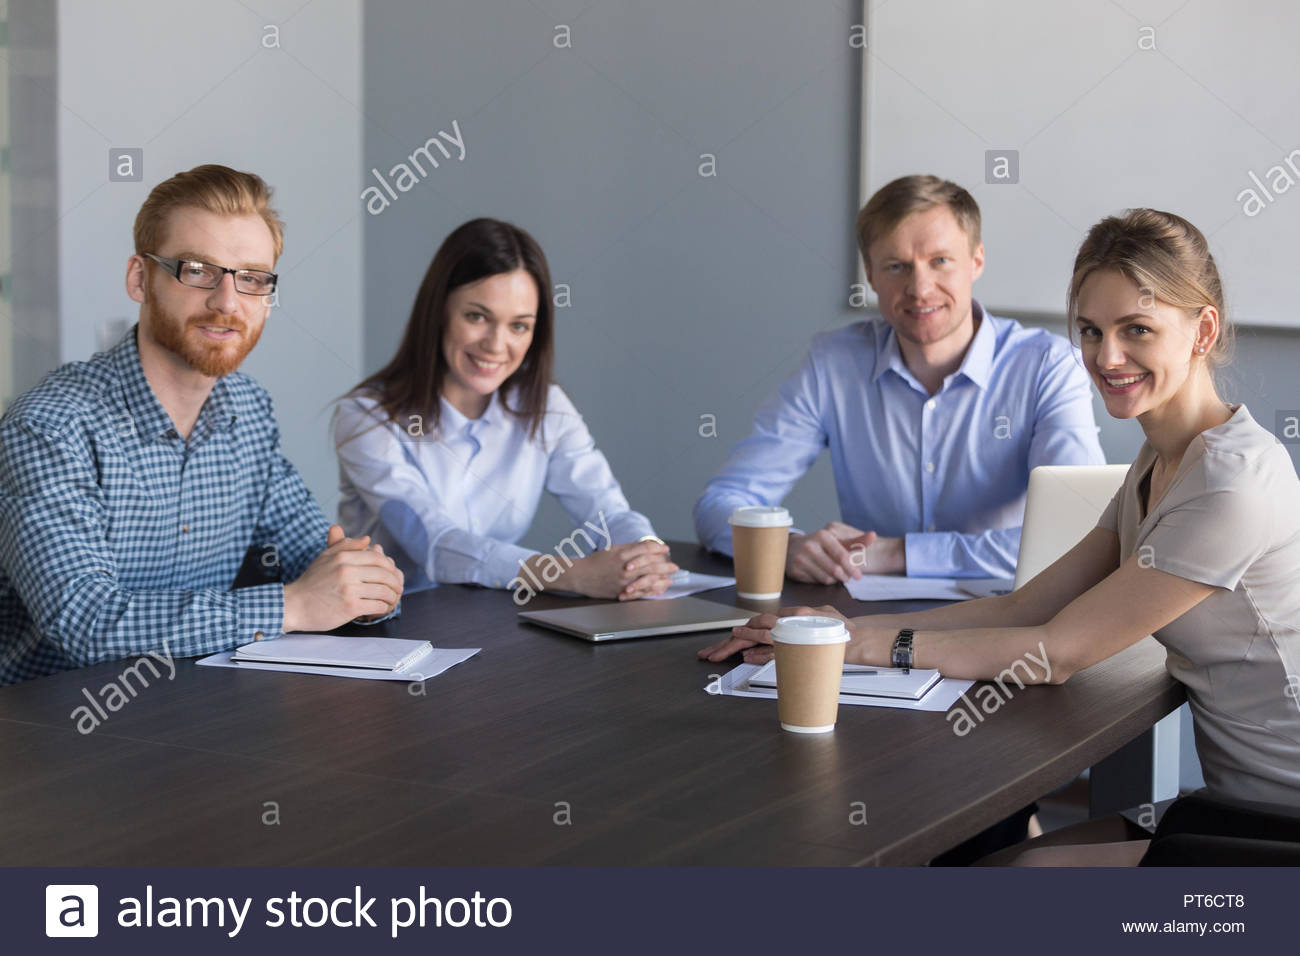person: (1064, 190, 1274, 560), (77, 145, 286, 487), (370, 208, 595, 499), (807, 166, 1040, 436)
